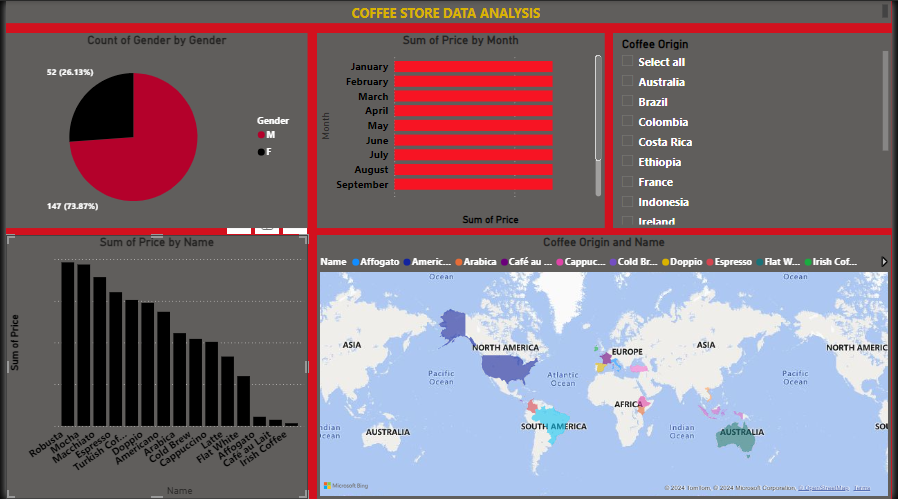

This screenshot's page, from the dashboard's own definition file:
{"tool":"powerbi","page":{"name":"Page 1","canvas":[1280,720],"ordinal":0},"visuals":[{"type":"filledMap","fields":{"Category":["Products.Coffee Origin"],"Series":["Products.Name"]},"box":[449.6,338,830.2,382],"z":0},{"type":"clusteredBarChart","fields":{"Category":["orders.ORDER_TIME.Variation.Date Hierarchy.Month"],"Y":["Sum(Products.Price)"]},"box":[449.6,45.6,415.8,282.1],"z":1},{"type":"columnChart","fields":{"Category":["Products.Name"],"Y":["Sum(Products.Price)"]},"box":[0,338,436.4,382],"z":2},{"type":"pieChart","fields":{"Category":["Customer.Gender"],"Y":["CountNonNull(Customer.Gender)"]},"box":[0,45.6,436.4,282.1],"z":3},{"type":"slicer","fields":{"Values":["Products.Coffee Origin"]},"box":[877.2,45.6,402.6,282.1],"z":4},{"type":"textbox","box":[0,0,1279.5,31.8],"z":5}]}

Visuals, with their boxes in screenshot pixels (x1, y1, x2, y2), scaled from the page's 1280x720 canvas onto the 898x499 screenshot:
filledMap - Products.Coffee Origin x Products.Name: Rect(315, 234, 897, 498)
clusteredBarChart - orders.ORDER_TIME.Variation.Date Hierarchy.Month x Sum(Products.Price): Rect(315, 32, 607, 227)
columnChart - Products.Name x Sum(Products.Price): Rect(0, 234, 306, 498)
pieChart - Customer.Gender x CountNonNull(Customer.Gender): Rect(0, 32, 306, 227)
slicer - Products.Coffee Origin: Rect(615, 32, 897, 227)
textbox: Rect(0, 0, 897, 22)
